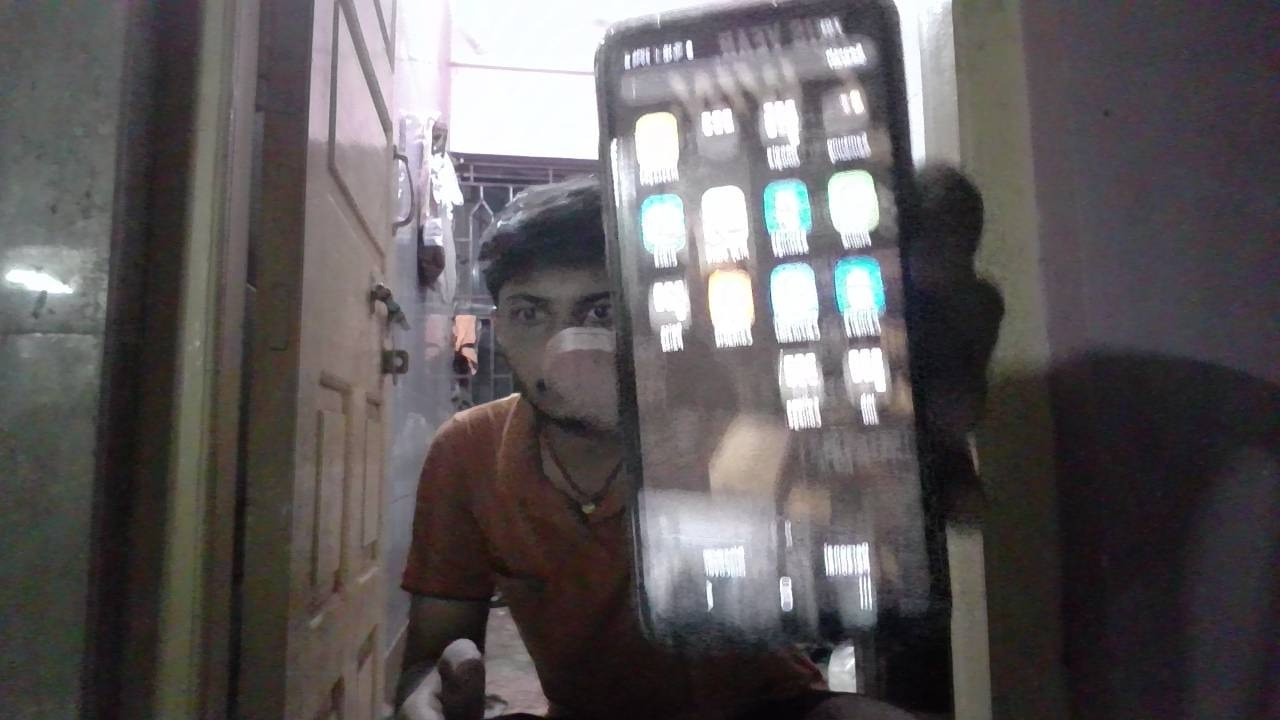red_box: (420, 404, 575, 561)
